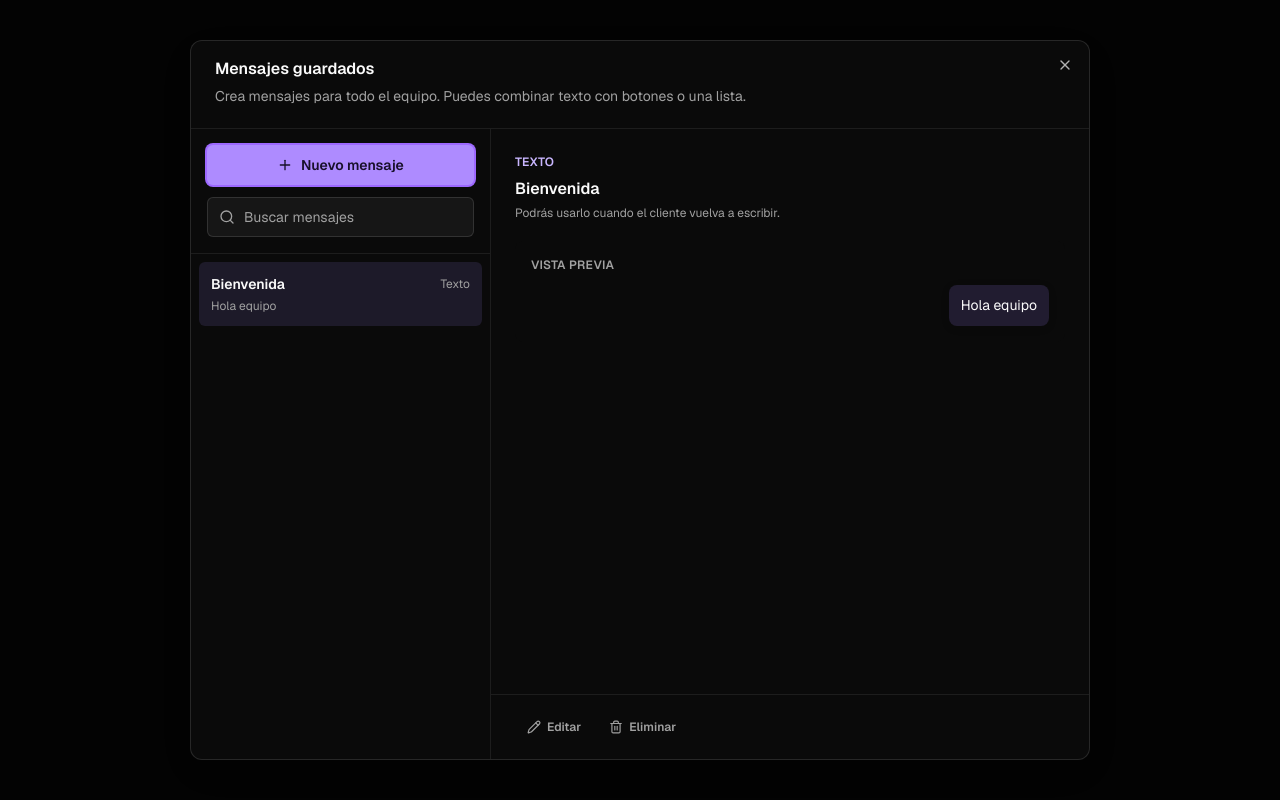
SavedMessagesDialog › allows managing messages while the 24 hour window is closed
Click the button "Editar".
click(554, 727)  # box [515,707,593,747]
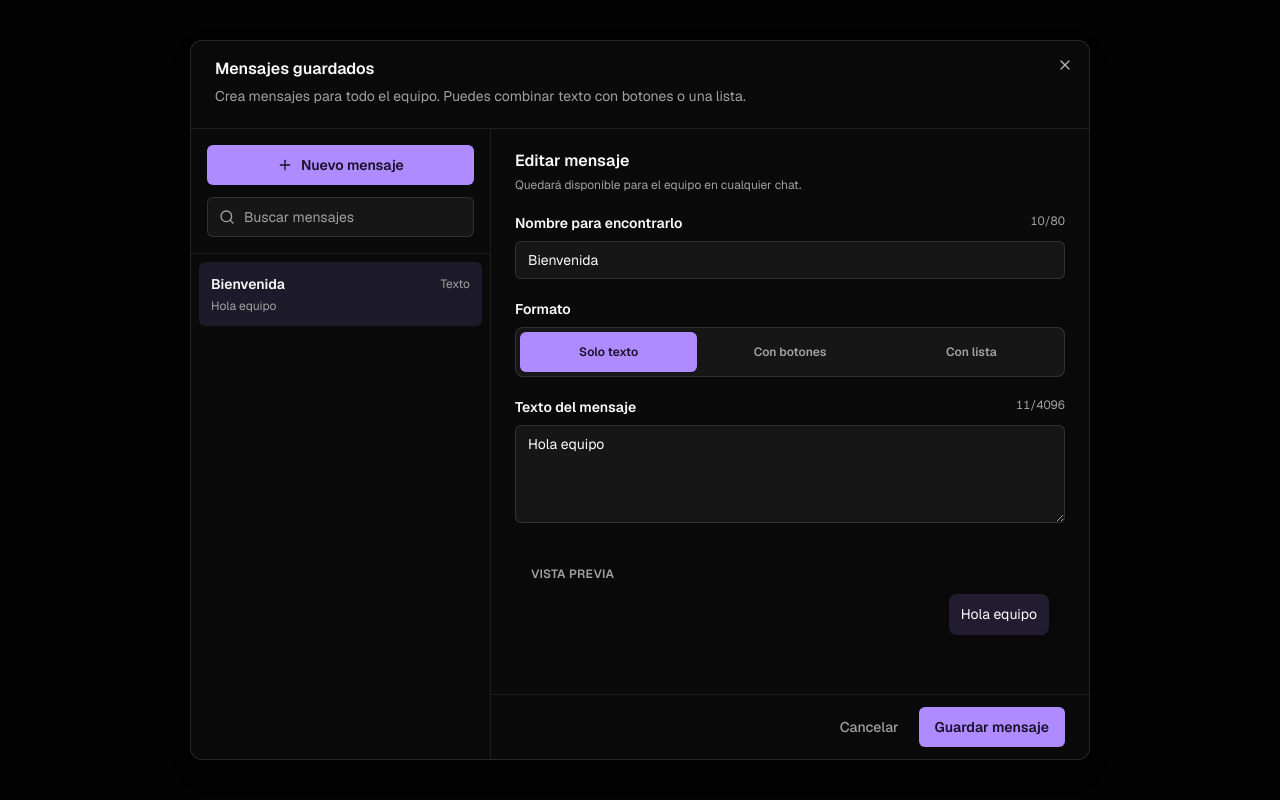
Expected: the heading "Editar mensaje" is shown, [515,150,629,171]
